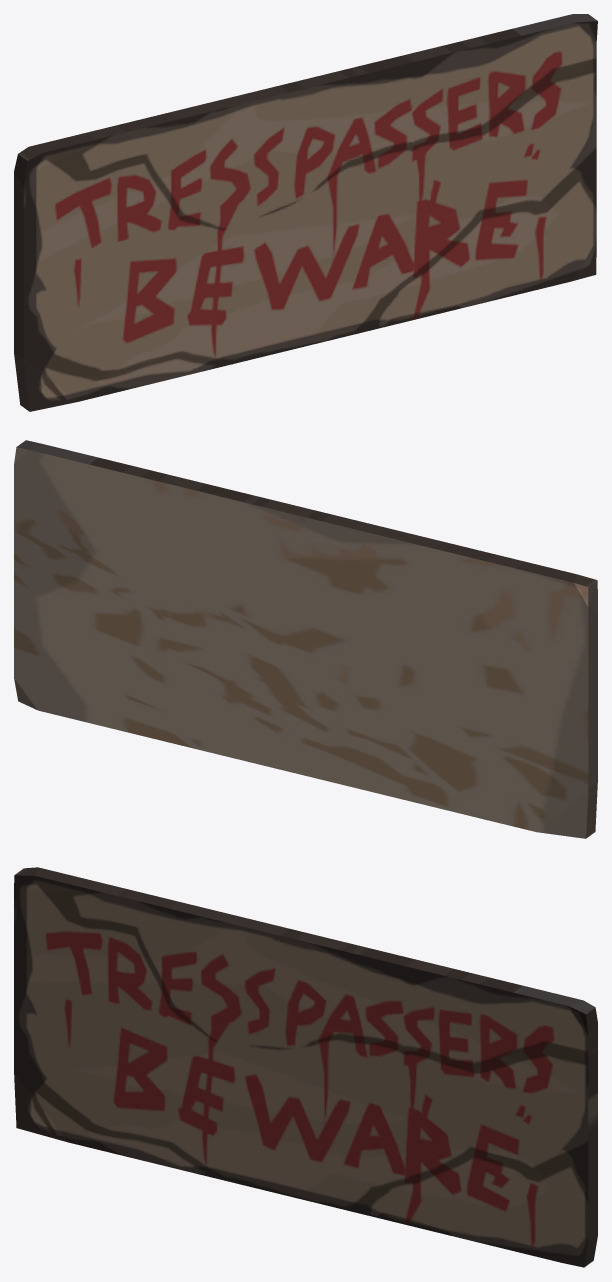
File: SM_Prop_Sign_Custom_15.obj
3 renders of one model, top to bottom at view 1: azimuth 30°, elevation 25°; view 2: azimuth 150°, elevation 25°; view 3: azimuth 330°, elevation 25°, orthographic.
Parts seen in each view (by area): view 1: SM_Prop_Sign_Custom_15_0; view 2: SM_Prop_Sign_Custom_15_0; view 3: SM_Prop_Sign_Custom_15_0.
Part boxes in pixels (x1,y1,x2,y2): SM_Prop_Sign_Custom_15_0: [14, 14, 597, 411]; SM_Prop_Sign_Custom_15_0: [14, 440, 597, 838]; SM_Prop_Sign_Custom_15_0: [14, 867, 597, 1267].
Bounding box in the file's own units: 2.19 × 0.9406 × 0.0752.
Materials: 1 (1 with a texture image).
